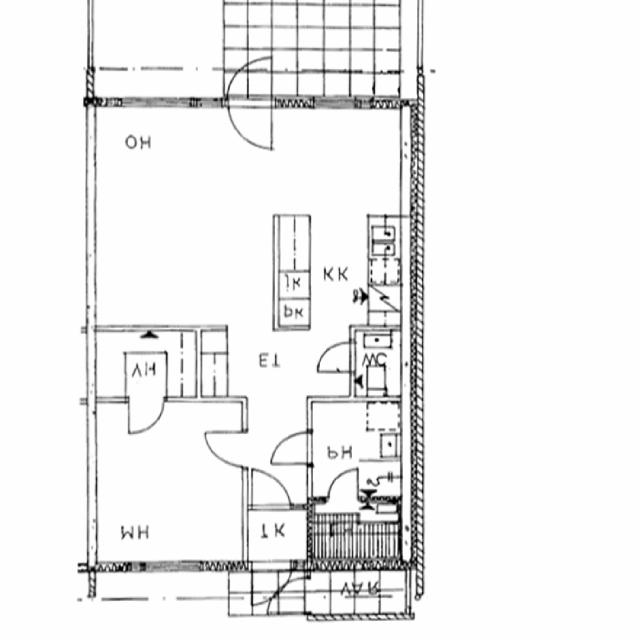door: (228, 53, 272, 108), (228, 97, 272, 152), (252, 562, 290, 610), (252, 468, 290, 510), (128, 398, 164, 438), (272, 579, 313, 614), (208, 433, 248, 467), (275, 433, 313, 464), (328, 468, 358, 503), (321, 343, 356, 372)
